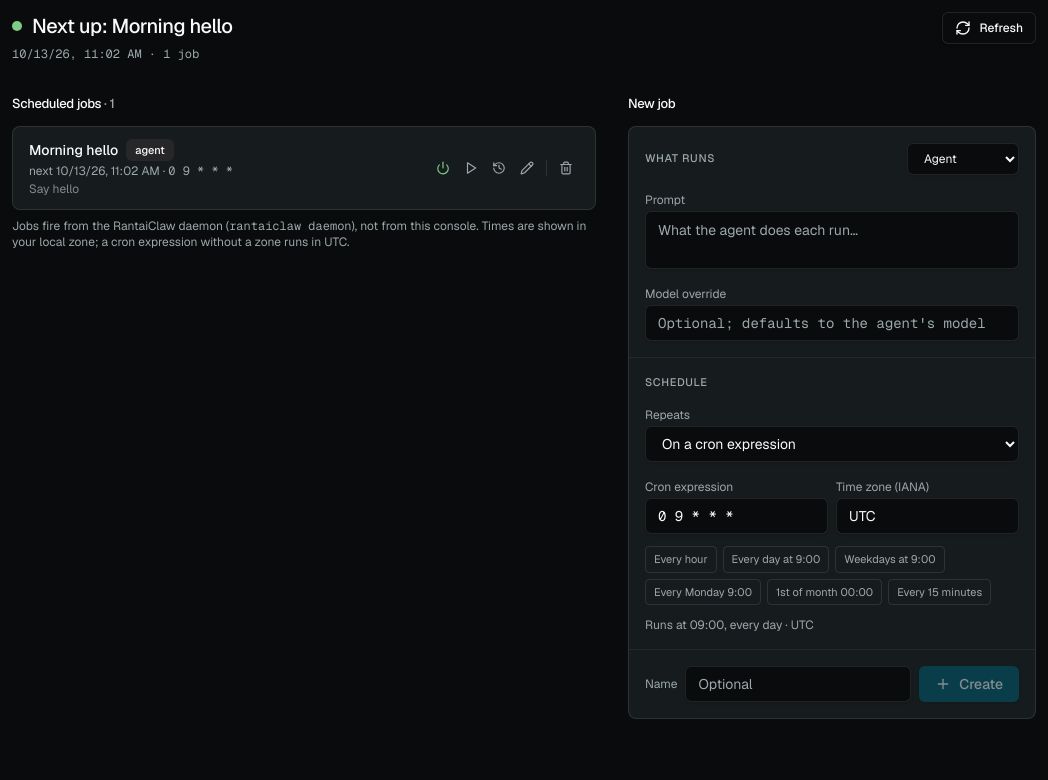
Test: CronPanel refresh failure › keeps the rows and shows the strip when a refresh fails
Expected: the text "Morning hello" is shown, 29,140 -> 118,160
Click the button "Refresh" at (989, 28), box 942,12 -> 1036,44
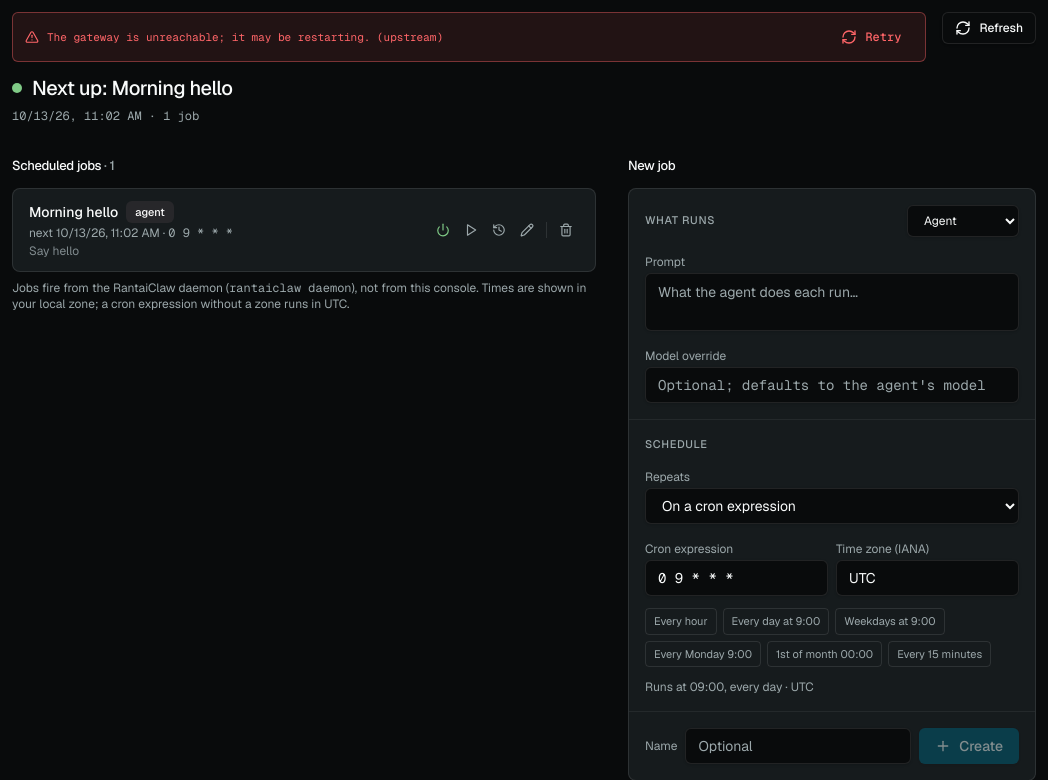
Expected: the text "Morning hello" is shown, 29,202 -> 118,222
Expected: the text "The gateway is unreachable; it may be restarting. (upstream)" is shown, 47,30 -> 443,44
